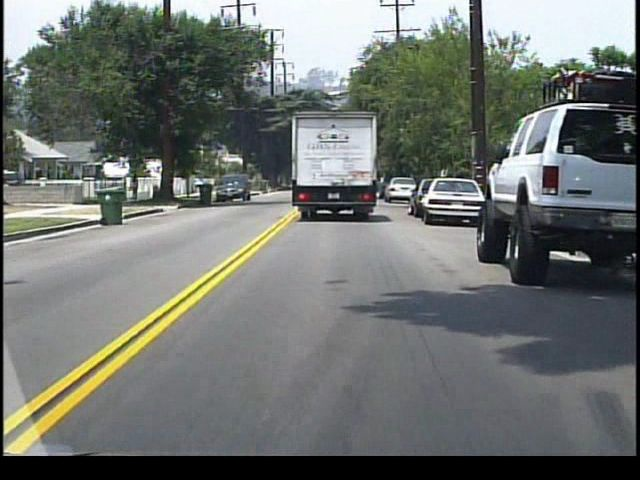person: (130, 173, 142, 203)
